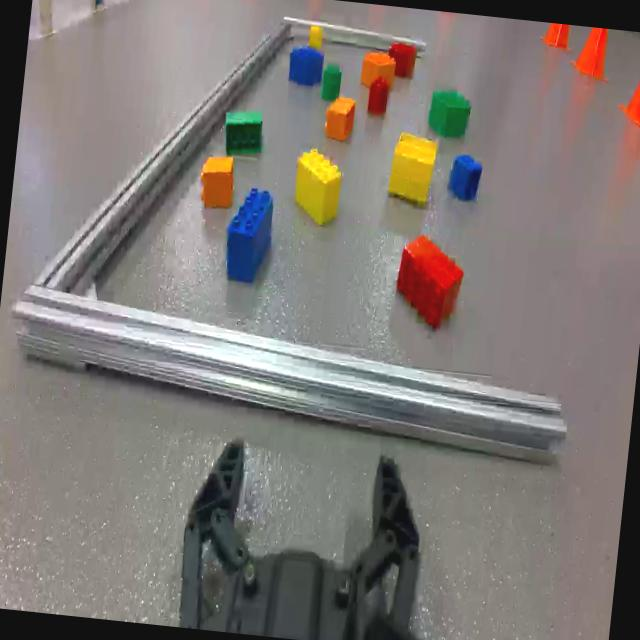block: (292, 146, 344, 228), (388, 130, 438, 203), (308, 24, 324, 46)
blue: (222, 188, 276, 290), (284, 44, 324, 86), (447, 152, 481, 200)
cone: (568, 25, 612, 82), (618, 30, 640, 137), (542, 22, 572, 49)
green: (220, 107, 266, 162), (427, 88, 472, 136), (322, 62, 342, 104)
metal barrier: (7, 0, 609, 474)
orange: (198, 154, 236, 210), (324, 92, 356, 138), (361, 50, 396, 88)
red goal: (389, 234, 465, 336), (388, 40, 416, 78), (366, 78, 388, 116)
storage cube: (29, 0, 97, 47), (91, 0, 139, 16)
